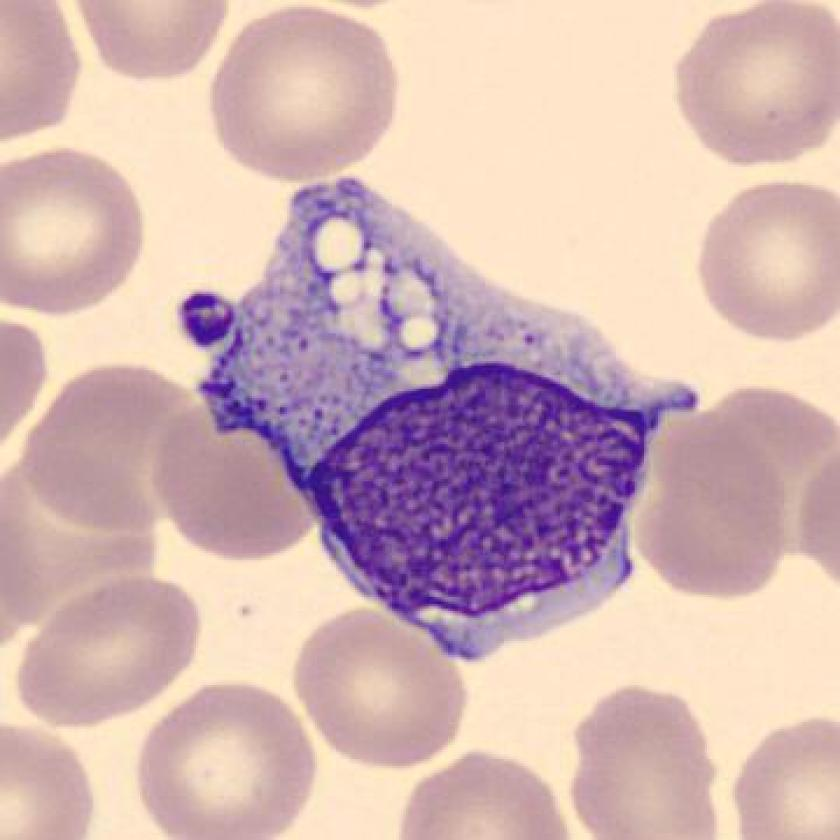monocyte: (176, 147, 717, 672)
